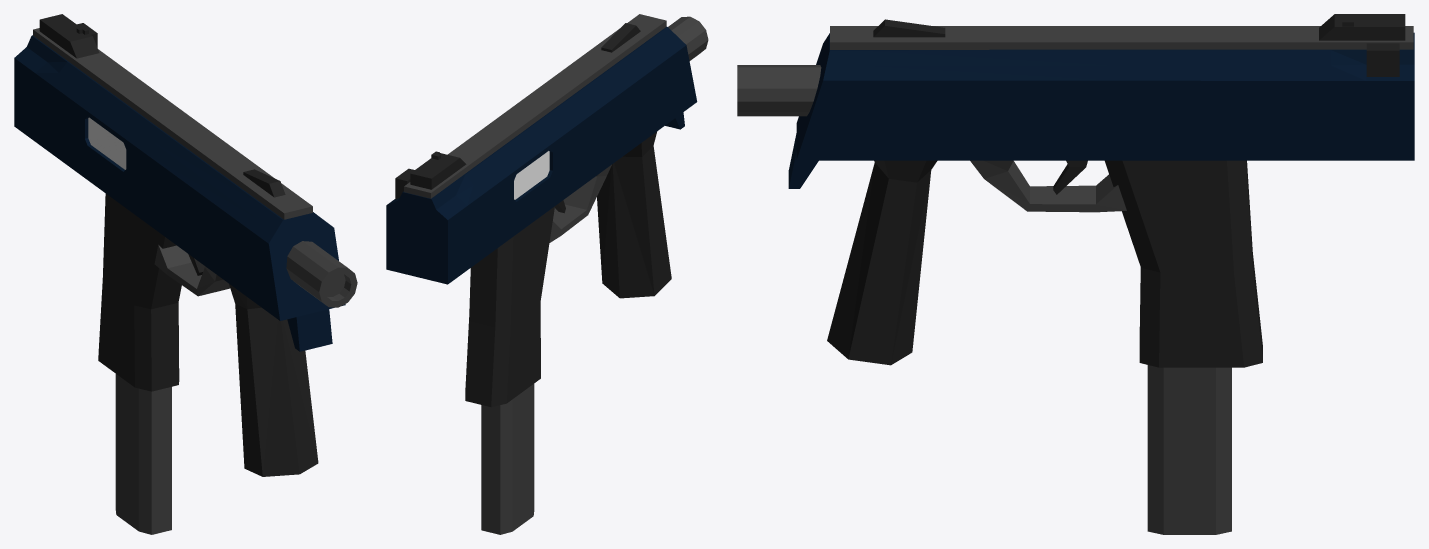
Rendered from Submachine Gun-thBPAYTK5R.glb.
The picture shows the model from 3 angles, left to right: view 1: azimuth 30°, elevation 25°; view 2: azimuth 150°, elevation 25°; view 3: azimuth 270°, elevation 25°; orthographic projection. The views are drawn at different scales.
Visible parts, largest first — view 1: SMG_01_Cube; view 2: SMG_01_Cube; view 3: SMG_01_Cube.
Boxes of the visible parts, x1=… form: SMG_01_Cube: x1=14, y1=14, x2=357, y2=534; SMG_01_Cube: x1=386, y1=14, x2=708, y2=534; SMG_01_Cube: x1=737, y1=14, x2=1414, y2=534.
Size of the model in its own units: 0.5219 by 3.34 by 4.02.
